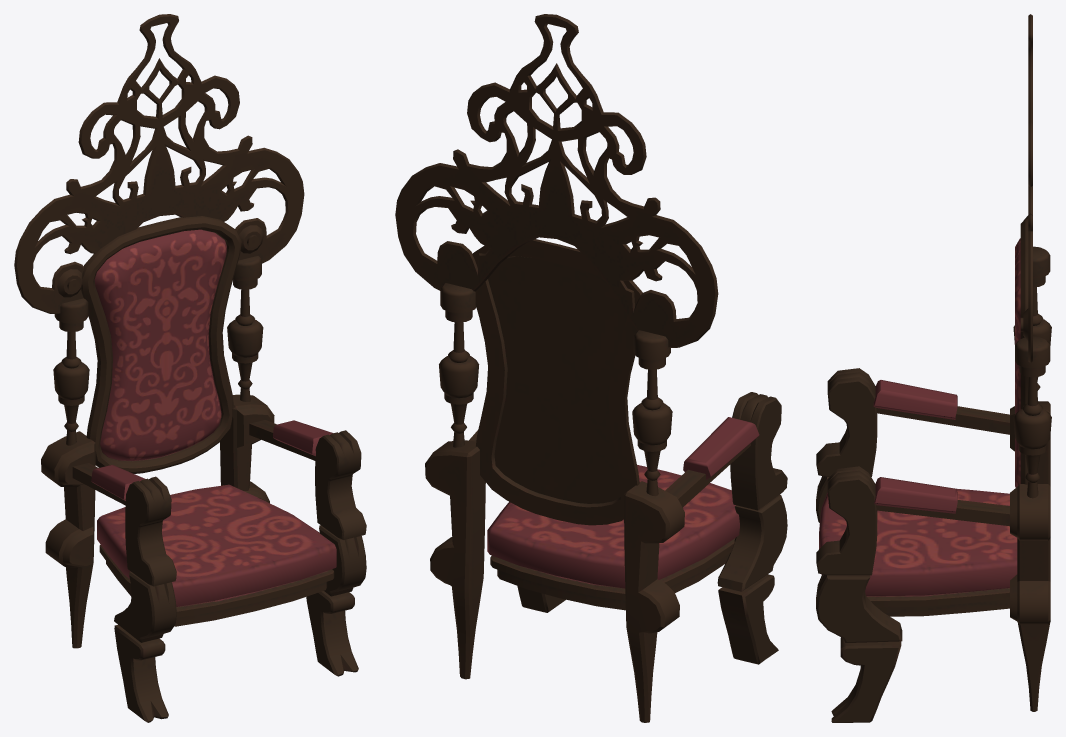
File: FancyChairSit.fbx
3 views of the same model, side by side, from view 1: azimuth 30°, elevation 25°; view 2: azimuth 150°, elevation 25°; view 3: azimuth 270°, elevation 25° (orthographic). The views are drawn at different scales.
Parts seen in each view (by area): view 1: fancyChairBack, fancyChairDetail, fancyChairSit, chairBackLeg1, chairLegPart12, chairLegPart11, chairLegPart14, chairBackLeg, chairLegPart, chairPillars1, chairPillars, chairLegPart13 (+6 smaller); view 2: fancyChairBack, fancyChairDetail, fancyChairSit, chairBackLeg1, chairBackLeg, chairLegPart12, chairLegPart13, chairPillars1, chairPillars, chairLegPart14, armRest2, armRest3 (+1 smaller); view 3: fancyChairSit, chairBackLeg, chairLegPart11, chairLegPart12, chairLegPart10, chairPillars, chairLegPart, fancyChairBack, armRest2, armRest, fancyChairDetail, armRest3 (+3 smaller).
Boxes of the visible parts, x1,y1,x2,y2 form: fancyChairBack: (81,216,241,473); fancyChairDetail: (14,14,304,313); fancyChairSit: (97,484,336,626); chairBackLeg1: (41,431,95,648); chairLegPart12: (125,476,176,586); chairLegPart11: (315,430,366,539); chairLegPart14: (114,625,168,722); chairBackLeg: (220,394,274,503); chairLegPart: (306,591,358,676); chairPillars1: (53,298,89,445); chairPillars: (227,256,263,401); chairLegPart13: (114,571,176,642); fancyChairBack: (472,239,642,525); fancyChairDetail: (395,14,718,347); fancyChairSit: (487,465,739,610); chairBackLeg1: (624,481,684,722); chairBackLeg: (425,440,485,679); chairLegPart12: (730,392,787,510); chairLegPart13: (717,494,787,591); chairPillars1: (632,330,672,496); chairPillars: (439,283,479,447); chairLegPart14: (718,574,778,664); armRest2: (683,417,759,479); armRest3: (665,443,750,507); fancyChairSit: (819,489,1017,616); chairBackLeg: (1010,484,1050,711); chairLegPart11: (816,466,877,575); chairLegPart12: (816,368,877,476); chairLegPart10: (816,574,902,642); chairPillars: (1013,336,1051,498); chairLegPart: (831,637,901,722); fancyChairBack: (1015,218,1028,487); armRest2: (873,380,957,419); armRest: (874,477,957,513); fancyChairDetail: (1028,14,1032,362); armRest3: (876,406,1009,434).
Bounding box in the file's own units: 6.29 × 12.73 × 4.18.
